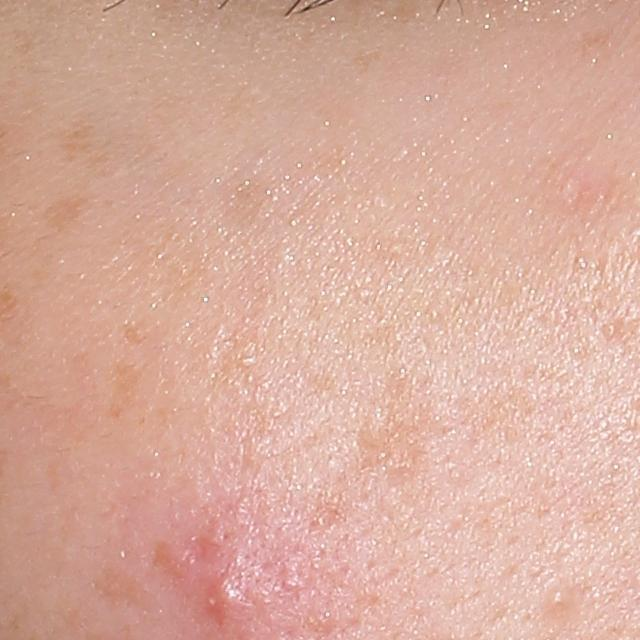atrophic_scar: (176, 530, 225, 567)
comedo: (548, 586, 573, 611)
melasma: (55, 119, 156, 176), (104, 355, 144, 424), (42, 190, 97, 238), (119, 320, 151, 347)
papule: (198, 568, 242, 628)
